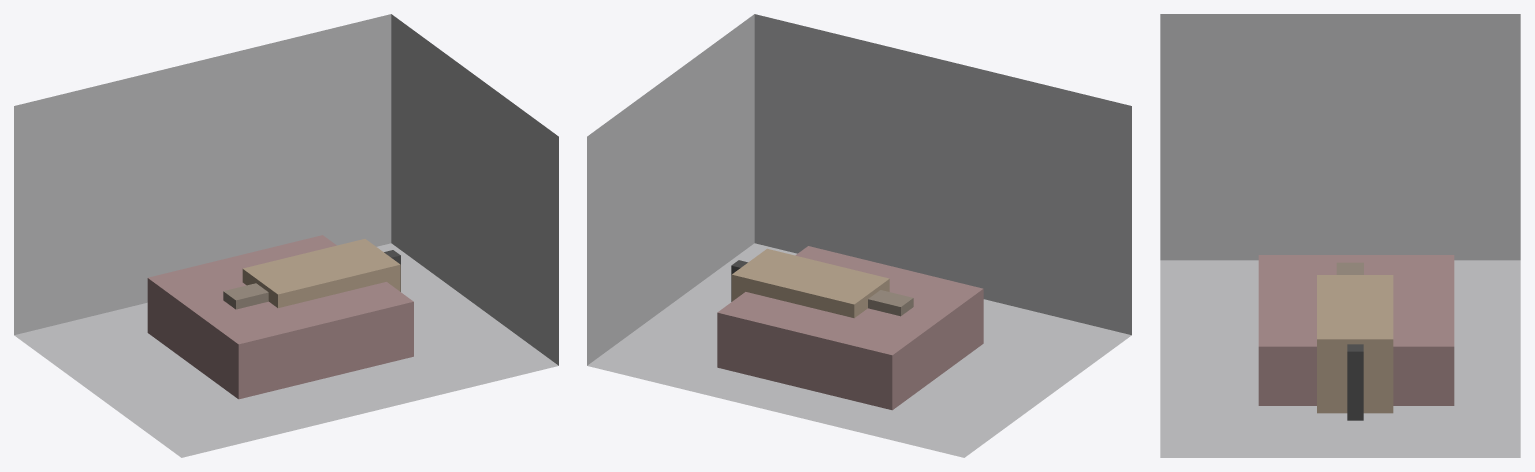
The model's file is optimised_layout.glb.
The picture shows the model from 3 angles, left to right: view 1: azimuth 30°, elevation 25°; view 2: azimuth 150°, elevation 25°; view 3: azimuth 270°, elevation 25°; orthographic projection. The views are drawn at different scales.
Parts seen in each view (by area): view 1: room, bed, desk, suitcase; view 2: room, bed, desk, suitcase; view 3: room, bed, desk, tv.
Boxes of the visible parts, x1,y1,x2,y2 form: room: [14, 14, 558, 457]; bed: [147, 235, 413, 399]; desk: [242, 239, 400, 307]; suitcase: [223, 283, 268, 309]; room: [587, 14, 1131, 457]; bed: [717, 246, 983, 410]; desk: [731, 248, 889, 318]; suitcase: [868, 290, 913, 316]; room: [1160, 14, 1520, 457]; bed: [1258, 255, 1454, 405]; desk: [1317, 275, 1393, 413]; tv: [1347, 344, 1363, 420].
Size of the model in its own units: 4.31 by 2.5 by 3.31.
